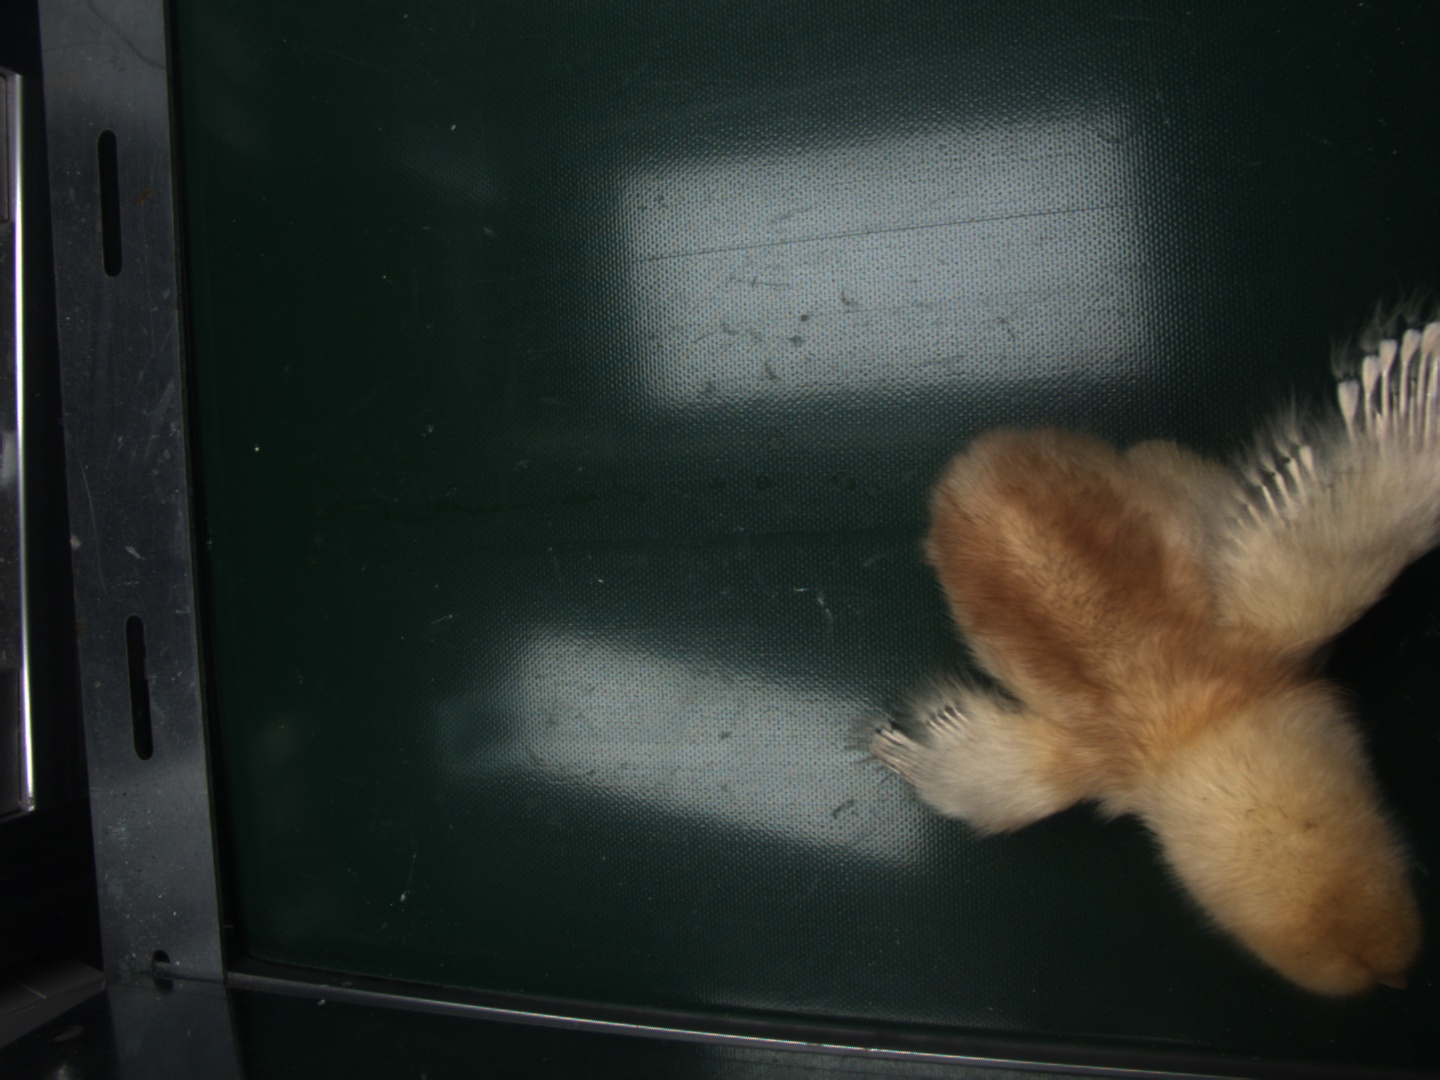female: (1340, 319, 1440, 440)
